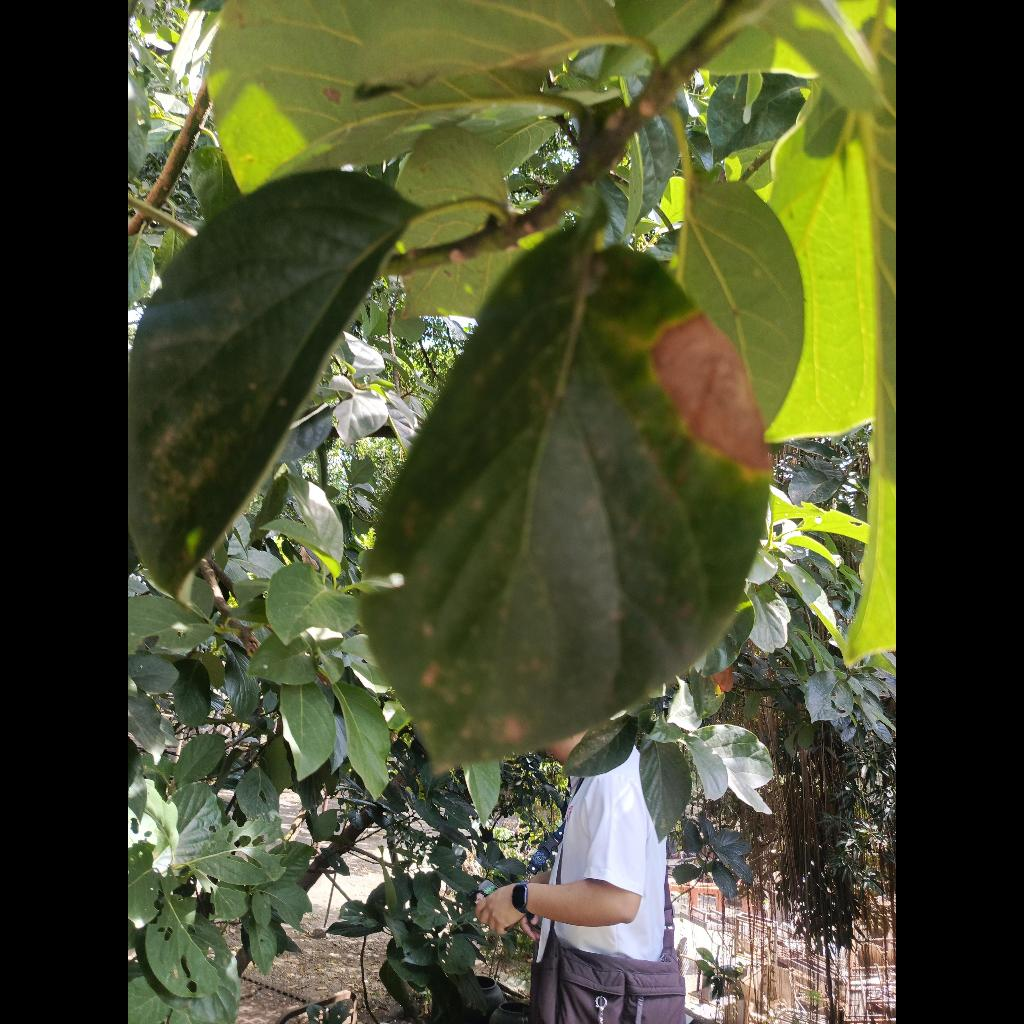Anthracnose: (364, 226, 770, 764)
